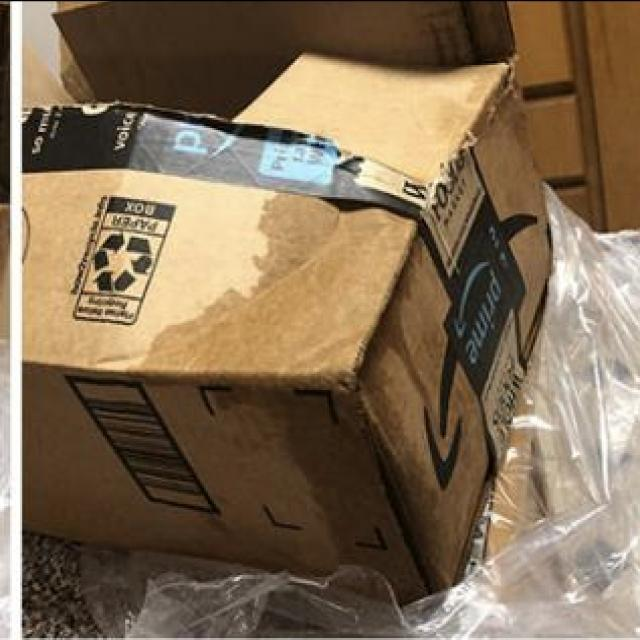wet: (202, 210, 476, 579)
